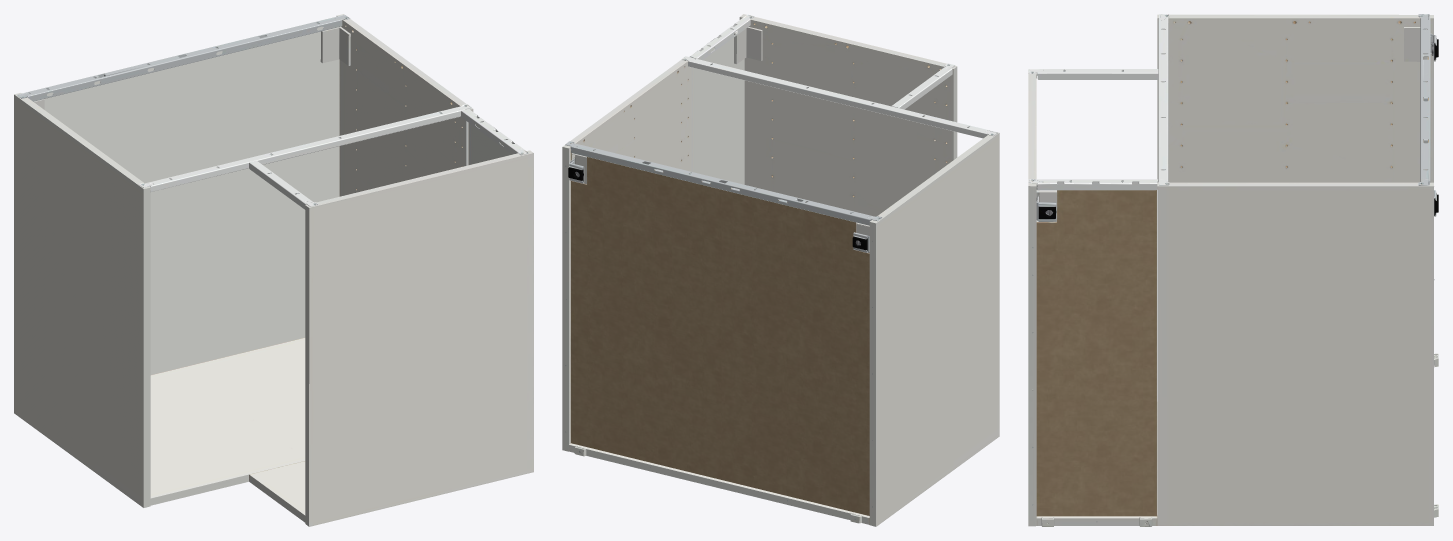
The model's file is metod_narozna_szafka_stojaca_40596748.glb.
3 views of the same model, side by side, from view 1: azimuth 30°, elevation 25°; view 2: azimuth 150°, elevation 25°; view 3: azimuth 270°, elevation 25° (orthographic). The views are drawn at different scales.
Visible parts, largest first — view 1: metod_narozna_szafka_stojaca_40596748; view 2: metod_narozna_szafka_stojaca_40596748; view 3: metod_narozna_szafka_stojaca_40596748.
Part boxes in pixels (left/top/right/bottom): metod_narozna_szafka_stojaca_40596748: left=14, top=14, right=533, bottom=526; metod_narozna_szafka_stojaca_40596748: left=562, top=14, right=999, bottom=526; metod_narozna_szafka_stojaca_40596748: left=1028, top=14, right=1438, bottom=526.
Bounding box in the file's own units: 0.8751 × 0.803 × 0.8751.
Materials: 1 (1 with a texture image).
